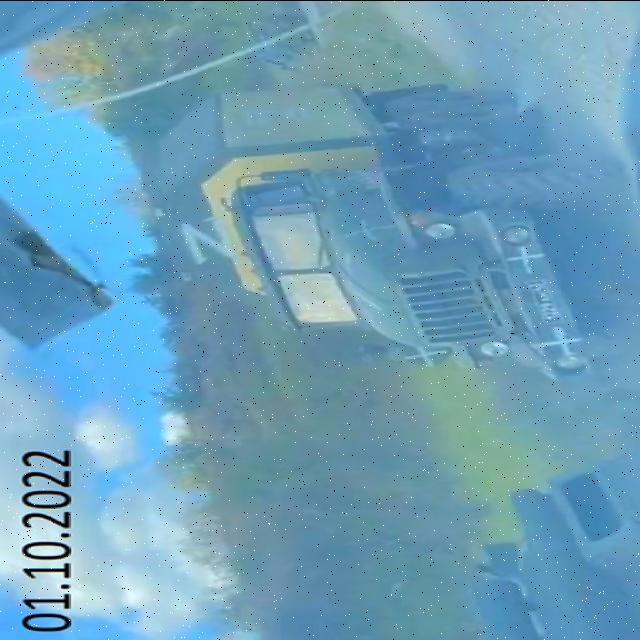CAR: (236, 12, 324, 76)
TRUCK: (142, 80, 638, 384)
